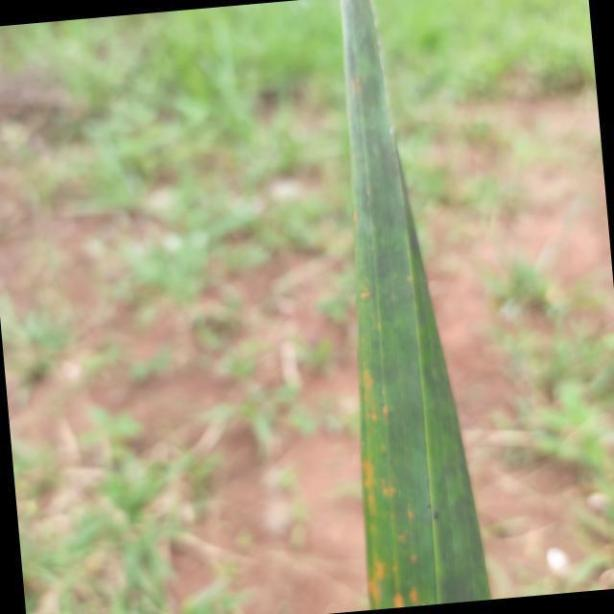Kalium: (342, 0, 495, 601)
